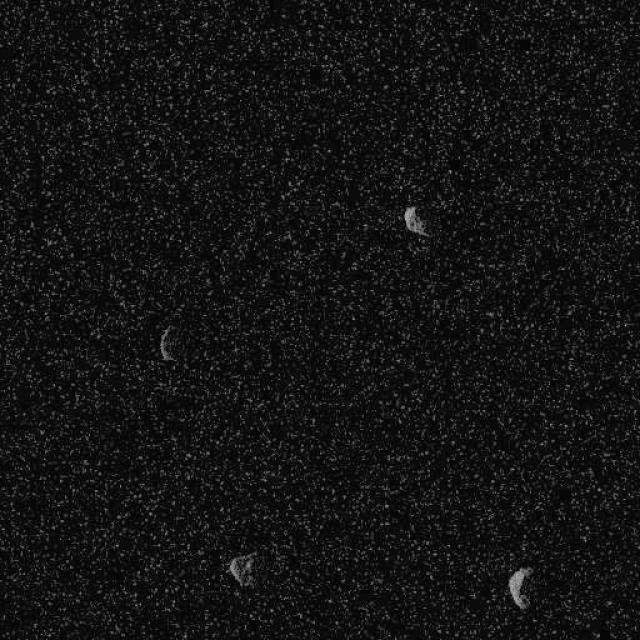D2: (506, 565, 534, 610), (226, 550, 258, 589), (402, 204, 430, 238), (158, 324, 180, 361)
